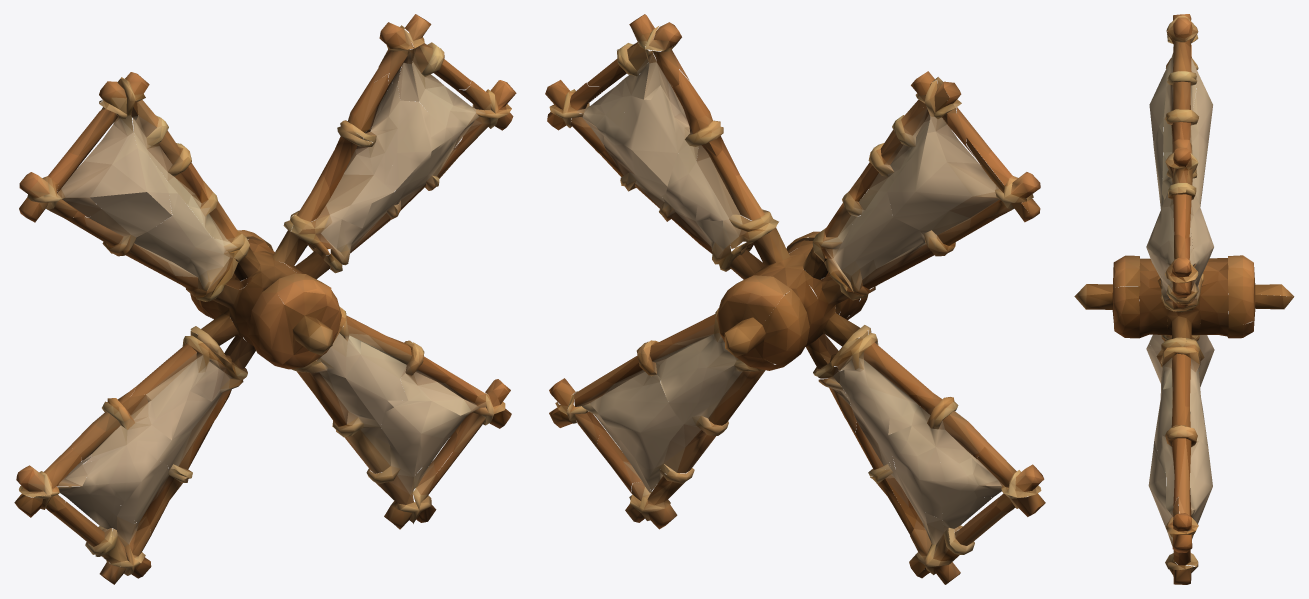
The model's file is building-windmill-rotor-tripo.glb.
The picture shows the model from 3 angles, left to right: view 1: azimuth 30°, elevation 25°; view 2: azimuth 150°, elevation 25°; view 3: azimuth 270°, elevation 25°; orthographic projection. The views are drawn at different scales.
Visible parts, largest first — view 1: 0_windmill-rotor; view 2: 0_windmill-rotor; view 3: 0_windmill-rotor.
Part boxes in pixels (x1,y1,x2,y2): 0_windmill-rotor: (14, 14, 516, 584); 0_windmill-rotor: (545, 14, 1045, 584); 0_windmill-rotor: (1074, 14, 1294, 584).
Bounding box in the file's own units: 2.15 × 2.16 × 0.96.
